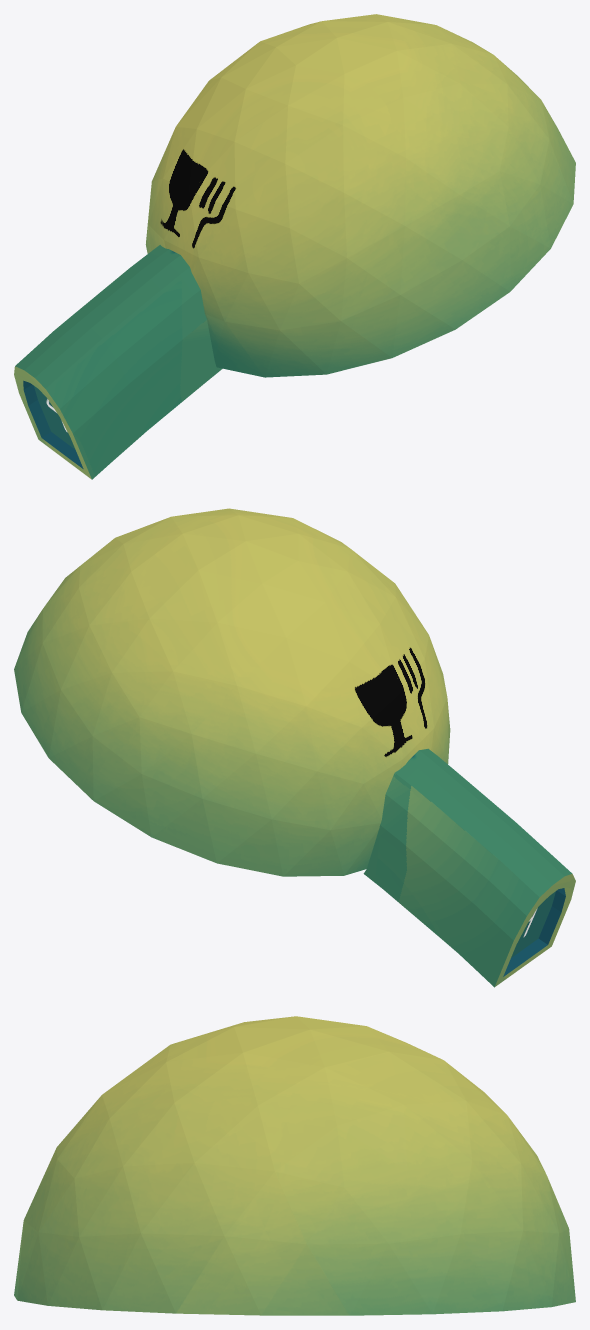
3 renders of one model, top to bottom at view 1: azimuth 30°, elevation 25°; view 2: azimuth 150°, elevation 25°; view 3: azimuth 270°, elevation 25°, orthographic. The views are drawn at different scales.
Visible parts, largest first — view 1: Icosphere.004; view 2: Icosphere.004; view 3: Icosphere.004.
Boxes of the visible parts, <box> form: Icosphere.004: <box>14,14,575,479</box>; Icosphere.004: <box>14,508,575,987</box>; Icosphere.004: <box>14,1016,575,1315</box>.
Bounding box in the file's own units: 0.6434 × 0.4274 × 0.4815.
Materials: 1 (1 with a texture image).
